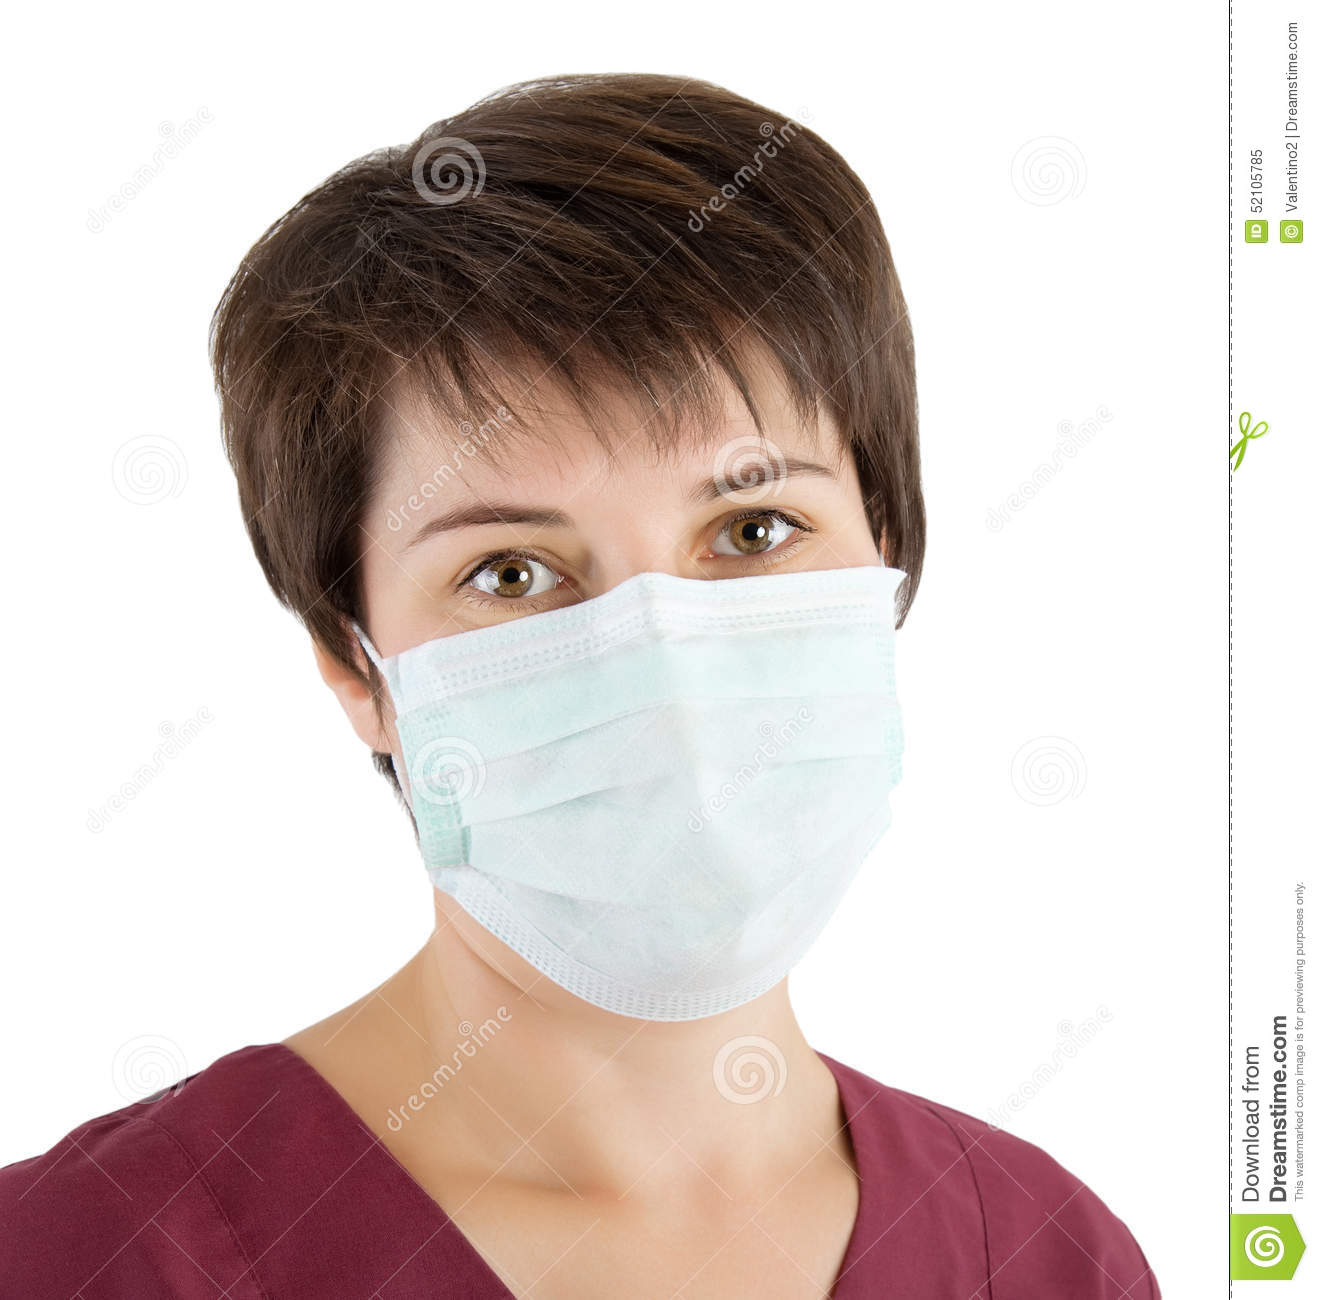mask: (390, 565, 915, 1031)
